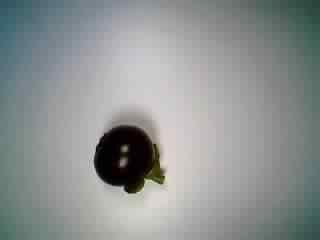mangosteen: (90, 121, 166, 197)
